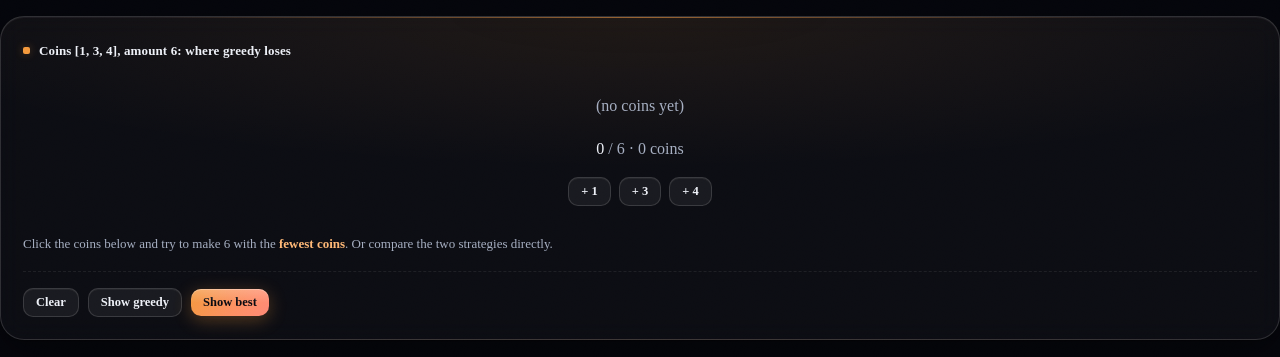
coin greedy lab › says 1 coin, not 1 coins
Click the button "+ 4" at (691, 192), box x1=669 y1=177 x2=712 y2=206
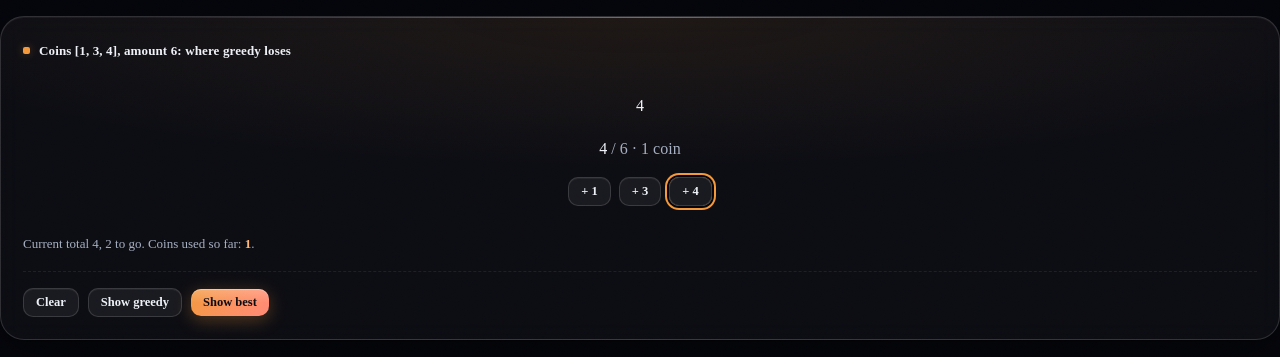
Check: the element with class "grd-coin-sum" reads "4 / 6 · 1 coin", box x1=599 y1=140 x2=681 y2=157
Click the button "+ 1" at (590, 192), box x1=568 y1=177 x2=611 y2=206
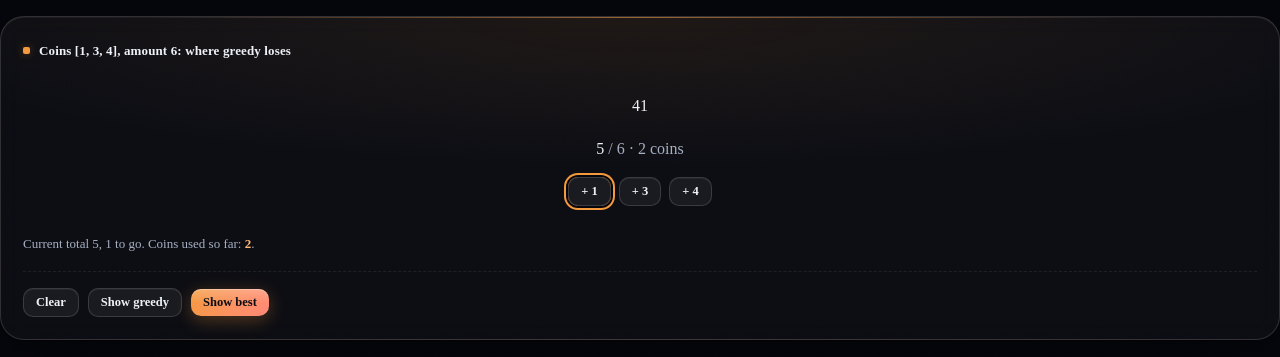
Check: the element with class "grd-coin-sum" reads "5 / 6 · 2 coins", box x1=596 y1=140 x2=684 y2=157
